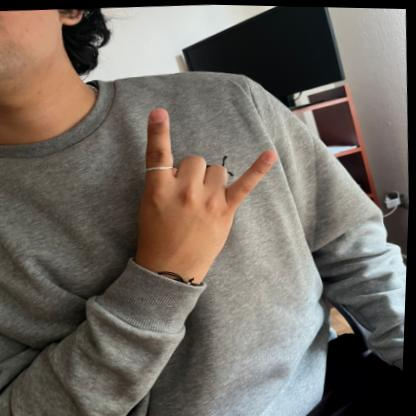U: (127, 96, 288, 285)
